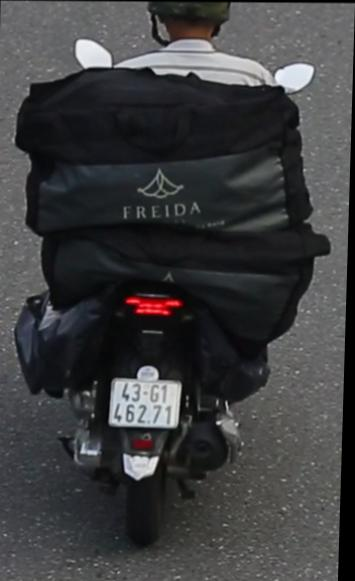LP: (107, 373, 186, 435)
